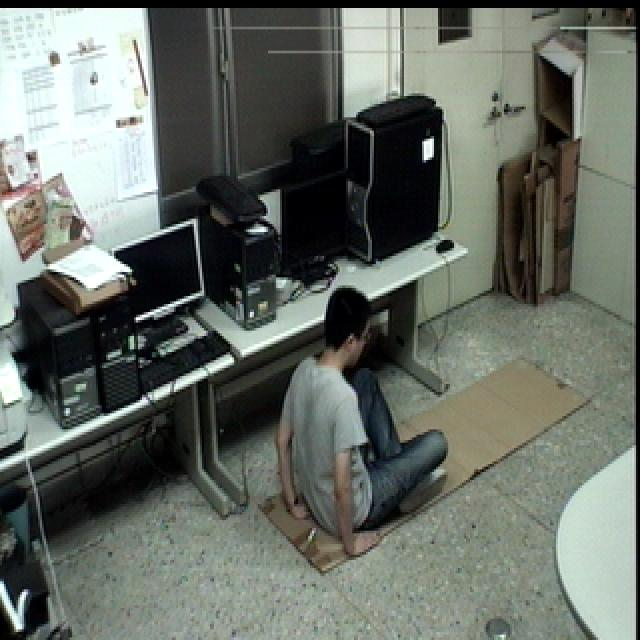sit: (266, 283, 458, 561)
